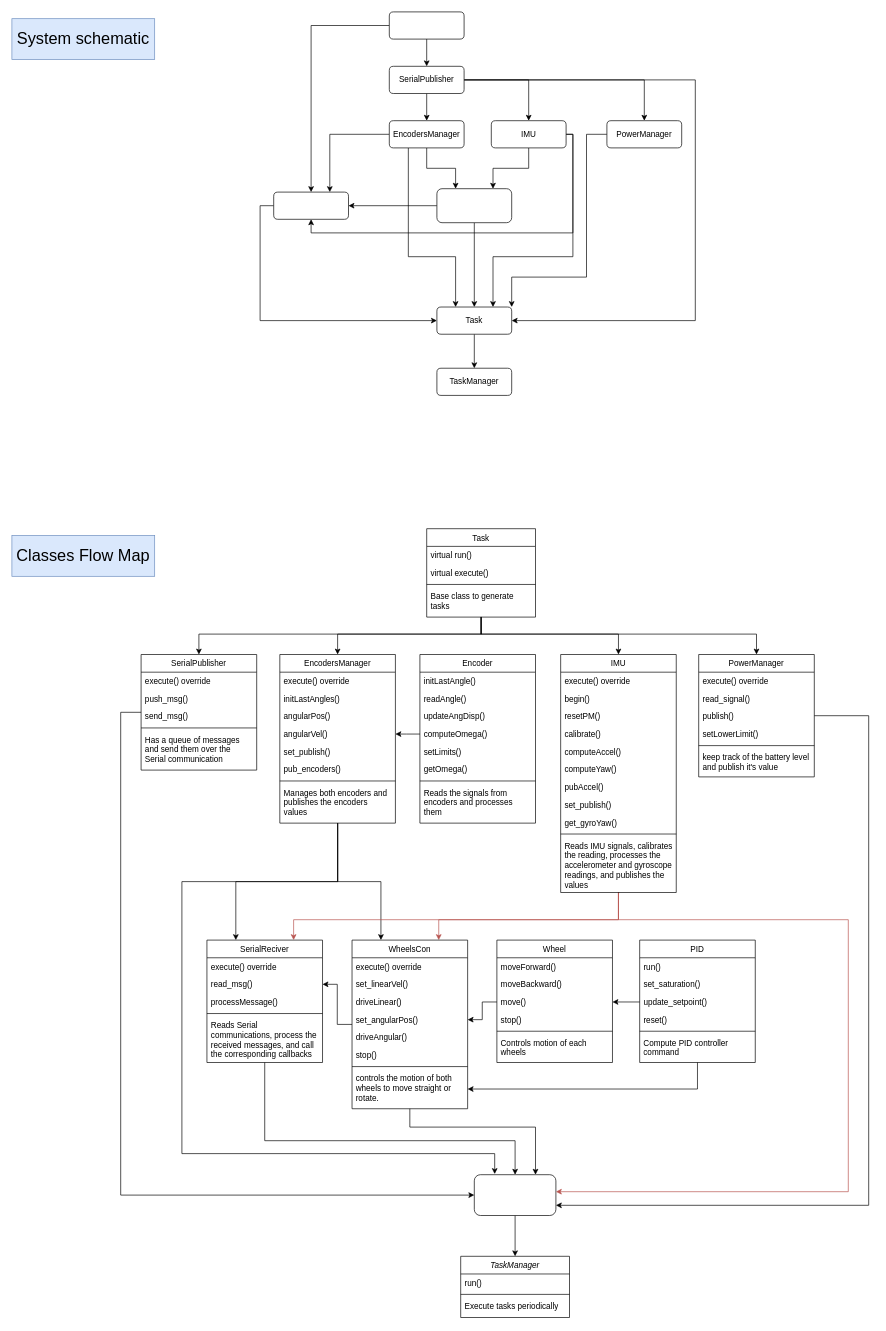
Image size: 886x1331. Some labels were removed from this diagram. The shapes that lost their labels are listed below. From the top down, each one's centre as x and y in pixels, then its label:
At point (426, 25): "HardwareSerial".
At point (310, 205): "SerialReceiver".
At point (474, 205): "WheelsCon (wheels controller)".
At point (515, 1195): "TasksList".
